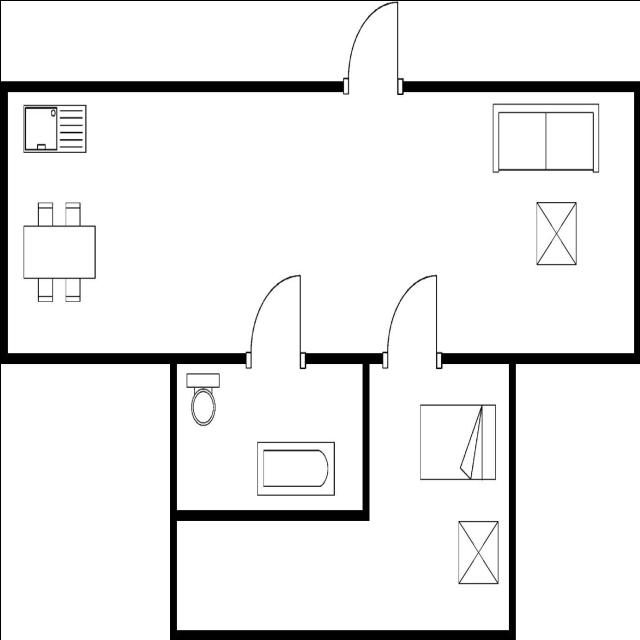bed: (417, 398, 498, 484)
coffee_table: (454, 516, 502, 590), (532, 197, 578, 270)
dining_table: (20, 198, 99, 306)
large_sink: (183, 369, 222, 432)
large_sofa: (490, 100, 602, 178)
sink: (20, 98, 90, 158)
tub: (254, 438, 338, 500)
